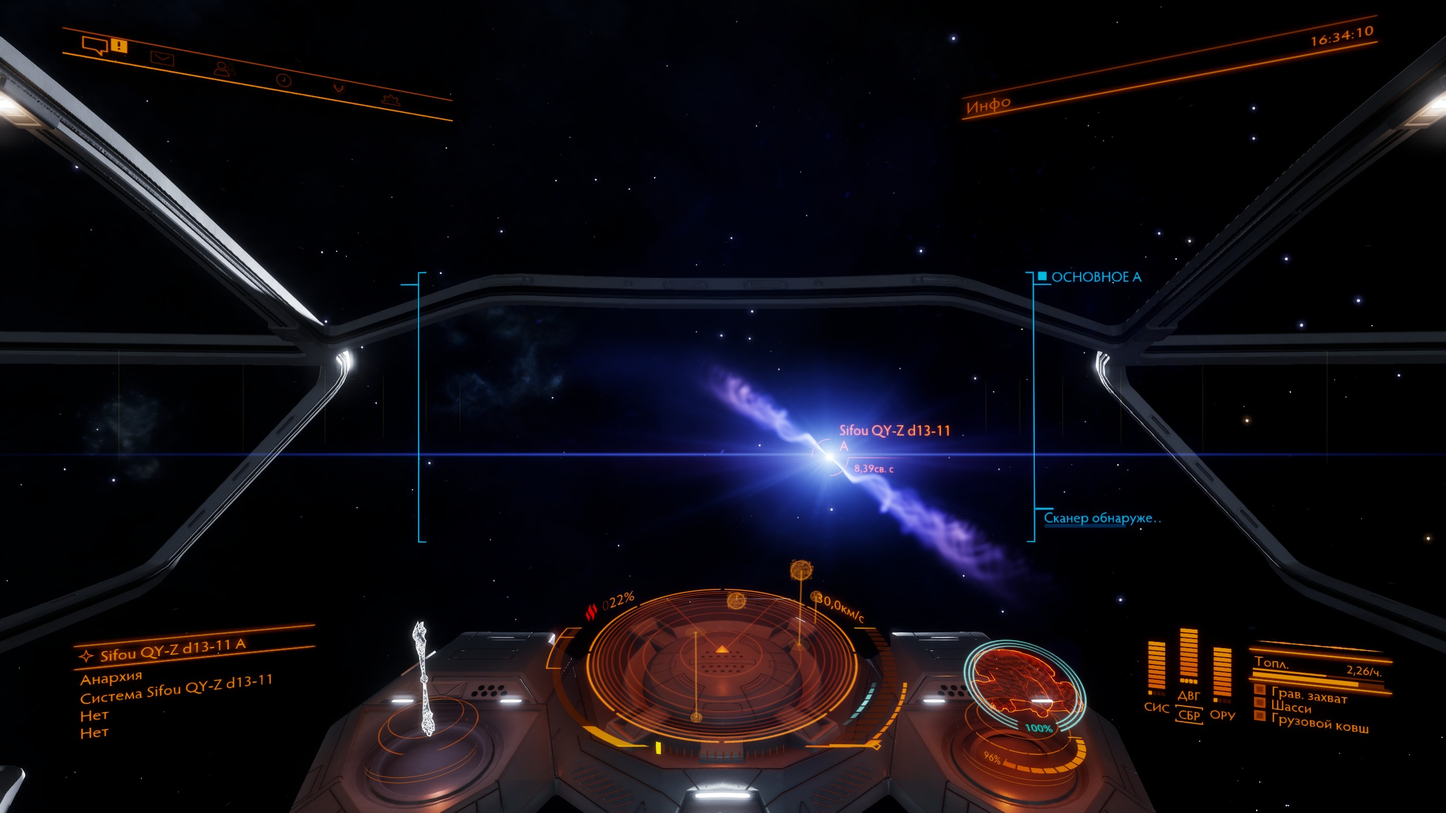jetcone: (850, 466, 1009, 581), (685, 356, 808, 461)
